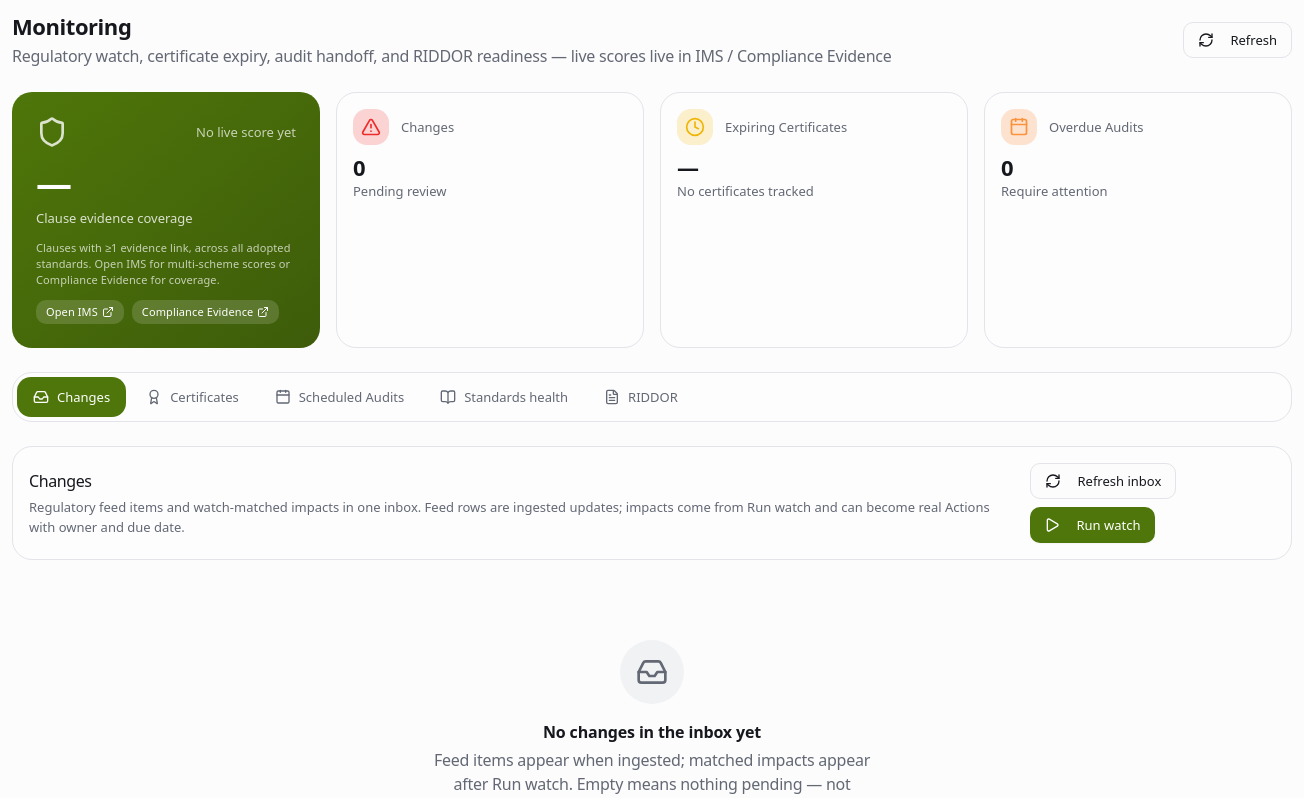
it: ComplianceAutomation standards digests › shows an alert when digests fail without inventing zeros
Expected: the heading "Monitoring" is shown, [12,11,131,41]
Click the button "Standards health": (504, 397) [424,377,584,417]
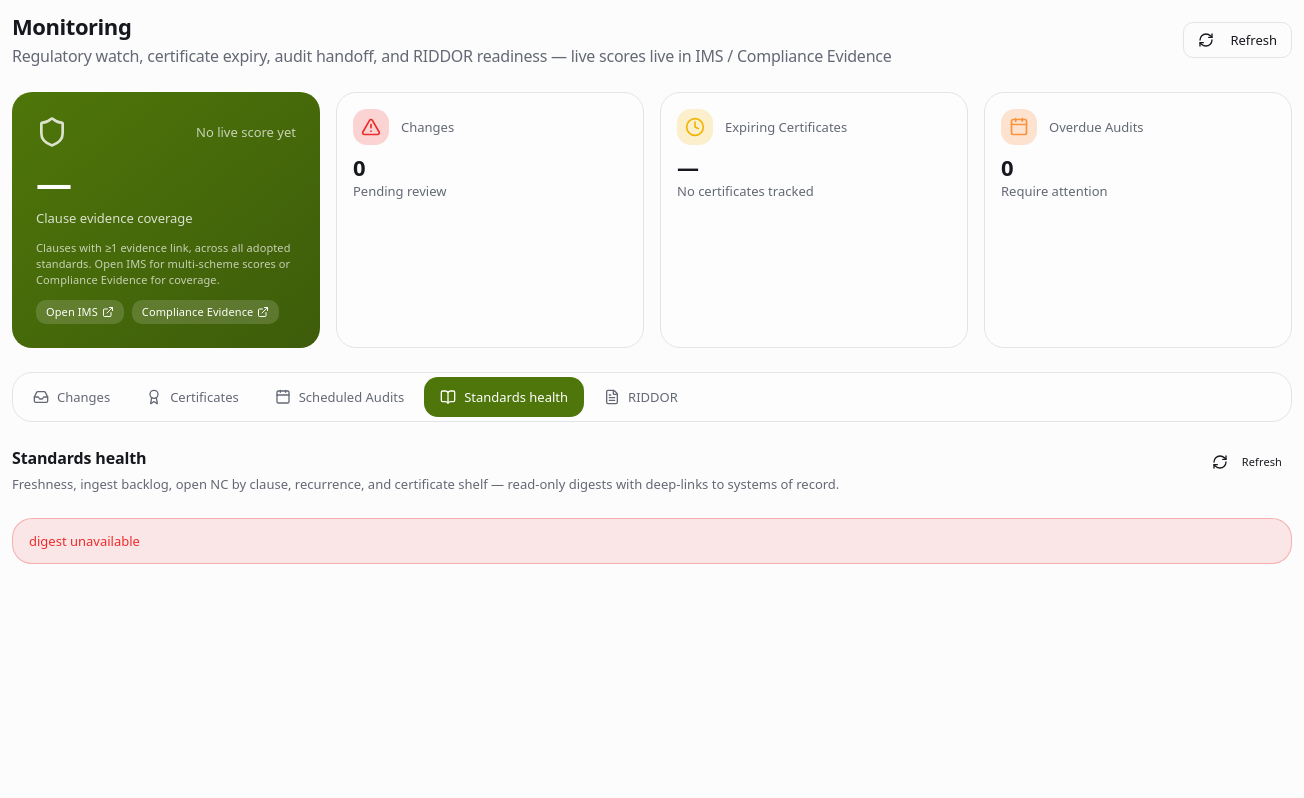
Result: the message reads "digest unavailable" at [29,532,140,550]
